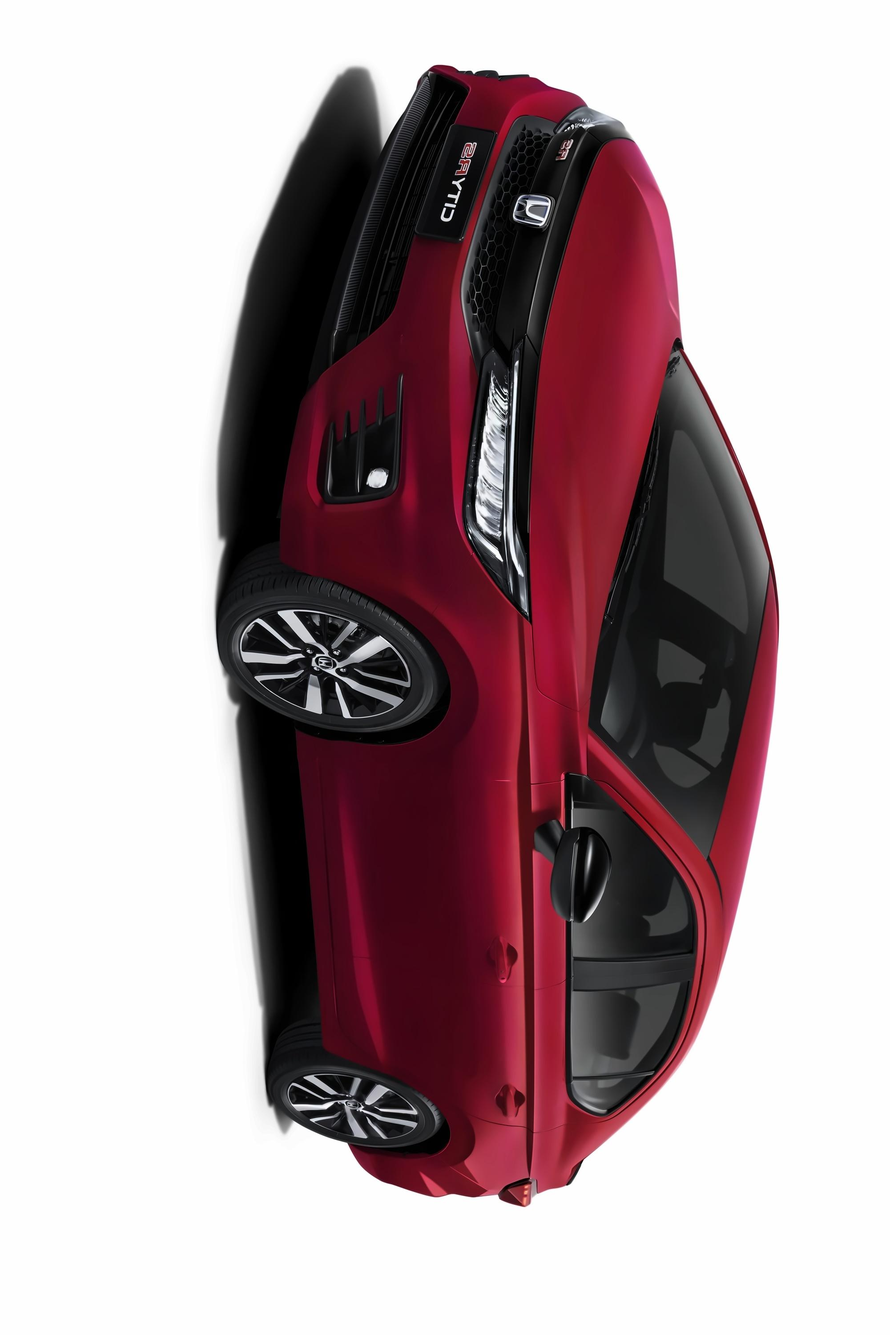Car hood: (510, 120, 680, 718)
Fender - -F-L-: (401, 499, 626, 839)
Fender - -R-L-: (336, 1016, 634, 1151)
Front bumper: (269, 56, 599, 657)
Headlight - -L-: (465, 338, 537, 621)
Passenger-s door - -F-L-: (243, 697, 749, 993)
Passenger-s door - -R-L-: (269, 915, 749, 1124)
Rear bumper: (338, 1122, 498, 1213)
Side bumper - -L-: (260, 717, 403, 1074)
Side mirror - -L-: (543, 812, 611, 932)
